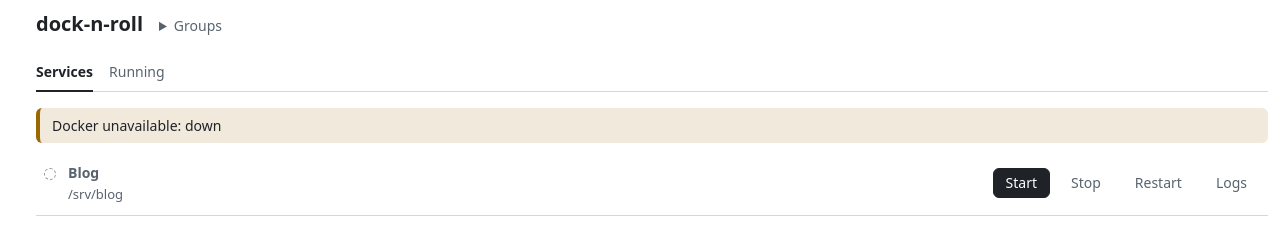
Test: App — groups (UC8, UC9, groups diagram 01) › disables group controls while Docker is unavailable
The image size is (1285, 233).
Click the heading "Groups".
click(198, 26)  # box top-left (174, 16), bottom-right (222, 35)
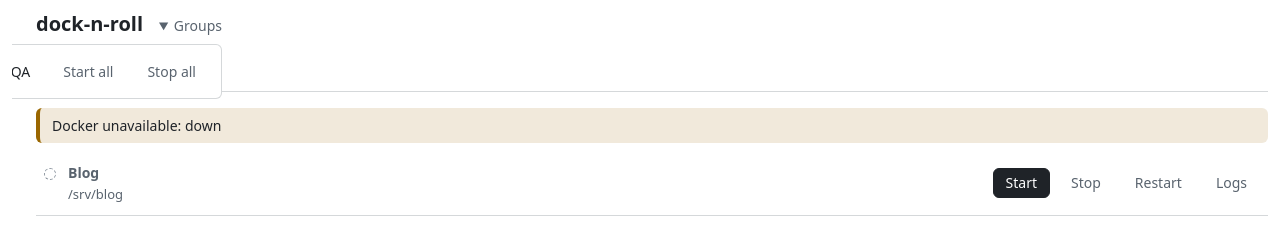
Check: the button with aria-label "Start all QA" is disabled, box top-left (50, 57), bottom-right (126, 86)
Check: the button with aria-label "Stop all QA" is disabled, box top-left (134, 57), bottom-right (209, 86)
